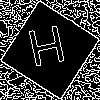H: (25, 25, 71, 77)
